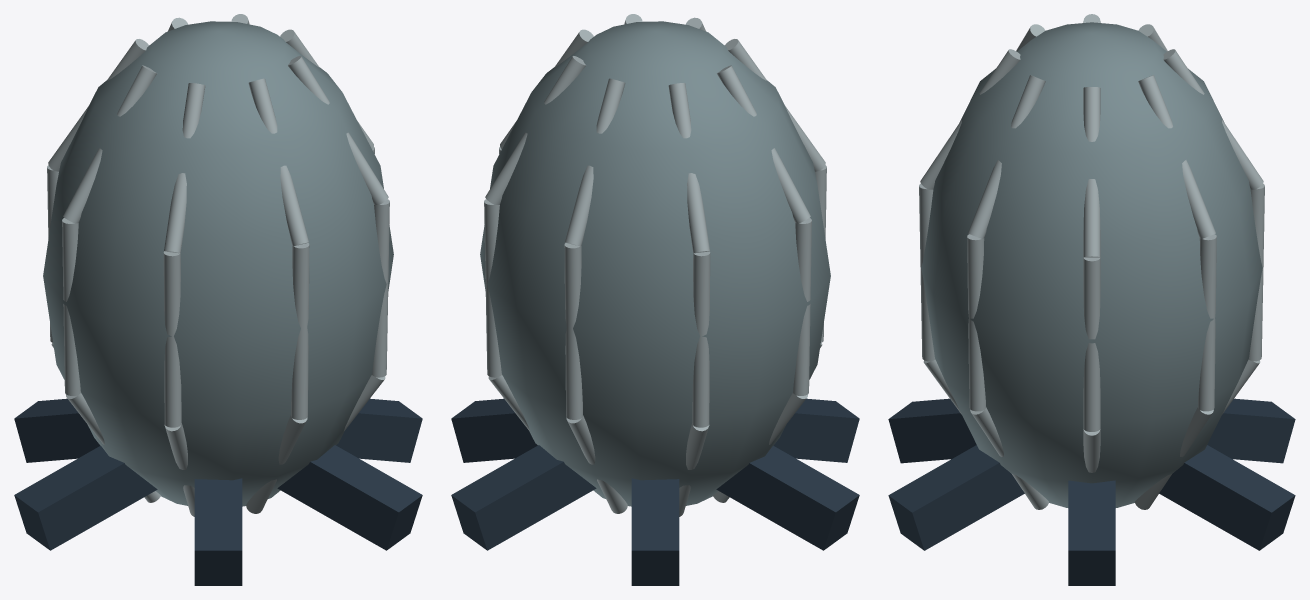
The model's file is CMU3DHiveCMUHunterShipObjEffectAlienEggForsakenEggGrowingSouth.glb.
The picture shows the model from 3 angles, left to right: view 1: azimuth 30°, elevation 25°; view 2: azimuth 150°, elevation 25°; view 3: azimuth 270°, elevation 25°; orthographic projection.
Parts seen in each view (by area): view 1: closed ovoid shell, anchoring root (×5), raised shell ridge (×13); view 2: closed ovoid shell, anchoring root (×5), raised shell ridge (×13); view 3: closed ovoid shell, anchoring root (×5), raised shell ridge (×13).
Part boxes in pixels (left/top/right/bottom): closed ovoid shell: left=43, top=21, right=393, bottom=506; anchoring root (×5): left=14, top=398, right=422, bottom=585; raised shell ridge (×13): left=48, top=39, right=389, bottom=516; closed ovoid shell: left=480, top=21, right=830, bottom=506; anchoring root (×5): left=451, top=398, right=859, bottom=585; raised shell ridge (×13): left=484, top=39, right=825, bottom=516; closed ovoid shell: left=921, top=22, right=1262, bottom=507; anchoring root (×5): left=888, top=398, right=1295, bottom=585; raised shell ridge (×13): left=919, top=49, right=1264, bottom=509.
Bounding box in the file's own units: 0.5207 × 0.6048 × 0.4789.
